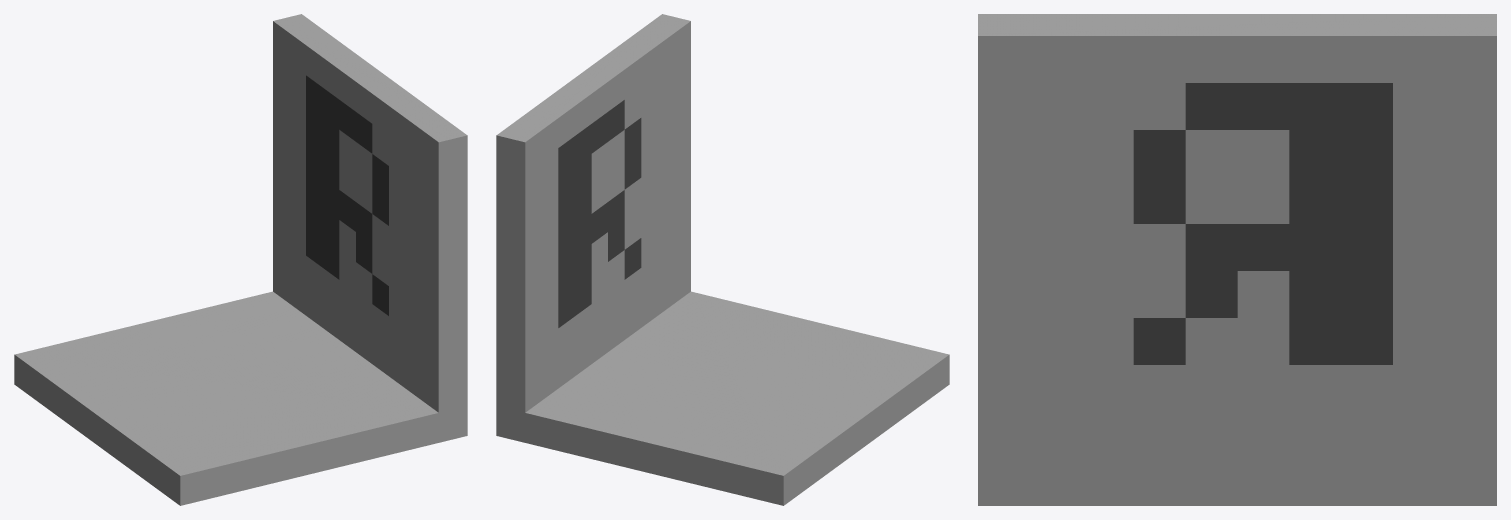
File: BLT.obj
The picture shows the model from 3 angles, left to right: view 1: azimuth 30°, elevation 25°; view 2: azimuth 150°, elevation 25°; view 3: azimuth 270°, elevation 25°; orthographic projection. The views are drawn at different scales.
Visible parts, largest first — view 1: BLT; view 2: BLT; view 3: BLT.
Part boxes in pixels (box(x1,y1,x2,y2)): BLT: box(14, 14, 467, 505); BLT: box(496, 14, 949, 505); BLT: box(978, 14, 1496, 505).
Bounding box in the file's own units: 10 × 10 × 10.
1 material, 1 textured.
